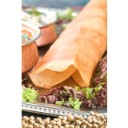dosa: (34, 2, 106, 87)
